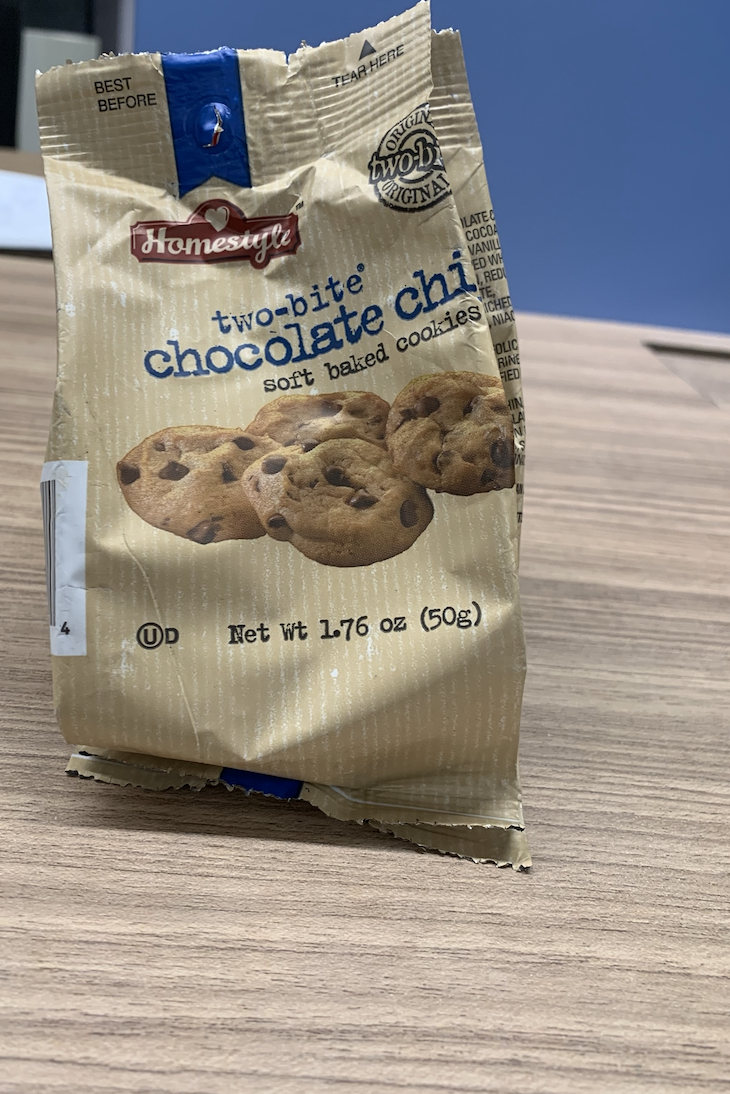cookies_50g: (54, 63, 525, 828)
